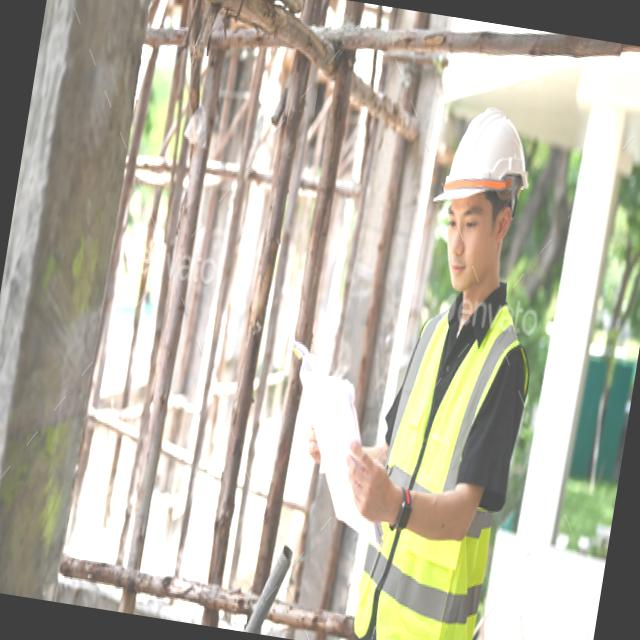helmet: (422, 106, 540, 220)
no-goggles: (440, 198, 511, 244)
vest: (352, 288, 539, 640)
